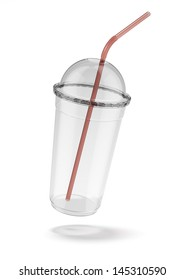plastic_glass: (46, 55, 134, 219)
